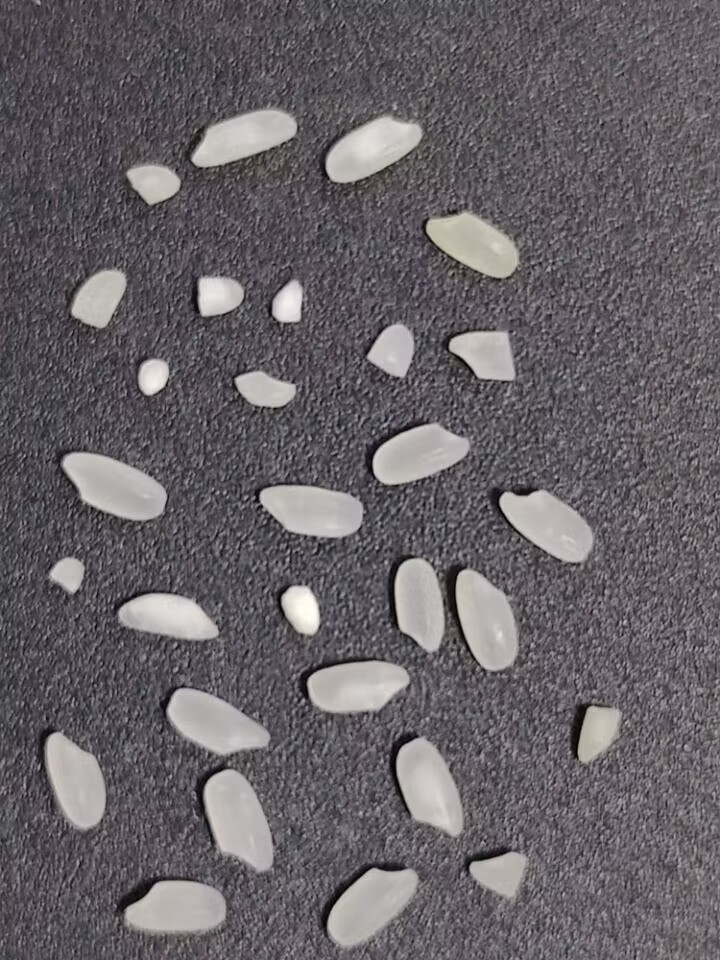broken: (447, 328, 518, 384), (69, 264, 128, 330), (362, 322, 418, 380), (468, 851, 529, 901), (575, 705, 623, 765), (232, 368, 298, 409), (124, 162, 181, 208), (195, 273, 244, 318), (279, 583, 319, 636), (46, 553, 87, 601), (268, 277, 305, 324), (136, 354, 172, 399)
rice: (324, 864, 420, 949), (202, 767, 275, 875), (166, 684, 271, 759), (499, 486, 595, 565), (61, 452, 167, 523), (394, 735, 464, 838), (325, 114, 422, 188), (424, 208, 520, 281), (454, 567, 520, 673), (190, 106, 298, 170), (369, 422, 472, 486), (45, 727, 107, 832), (302, 659, 411, 716), (256, 483, 363, 539), (121, 878, 228, 933), (392, 556, 447, 656), (116, 592, 219, 642)
